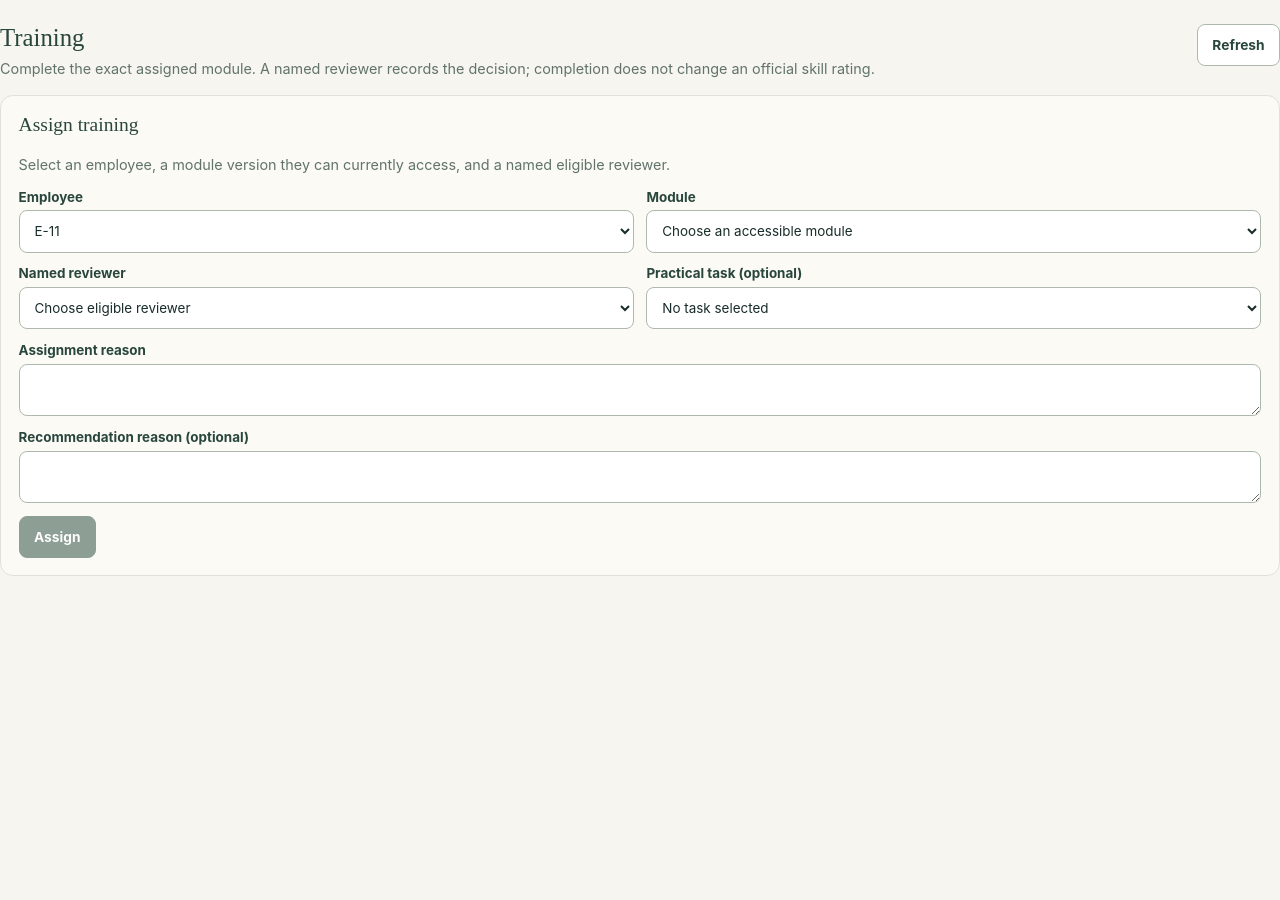
it: TrainingWorkspace › assigns an exact published module to a named reviewer and reloads its persisted assignment
Expected: the heading "Assign training" is shown, [19,114,138,135]
Select "Safe studio setup · Version 4" in the dropdown labelled "Module" at (954, 231), box [646,210,1261,253]
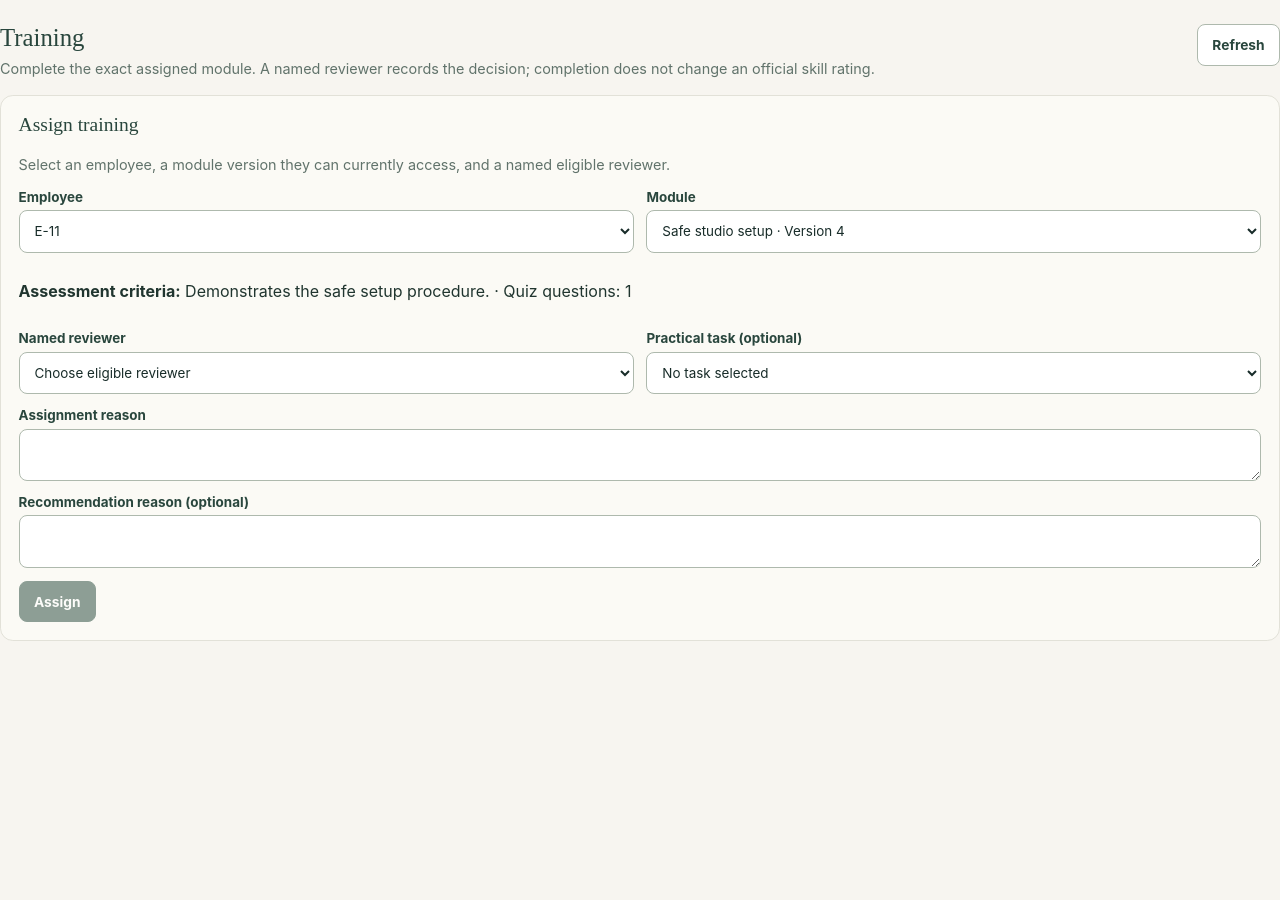
Select "Team reviewer" in the dropdown labelled "Named reviewer" at (326, 373), box [19,352,634,394]
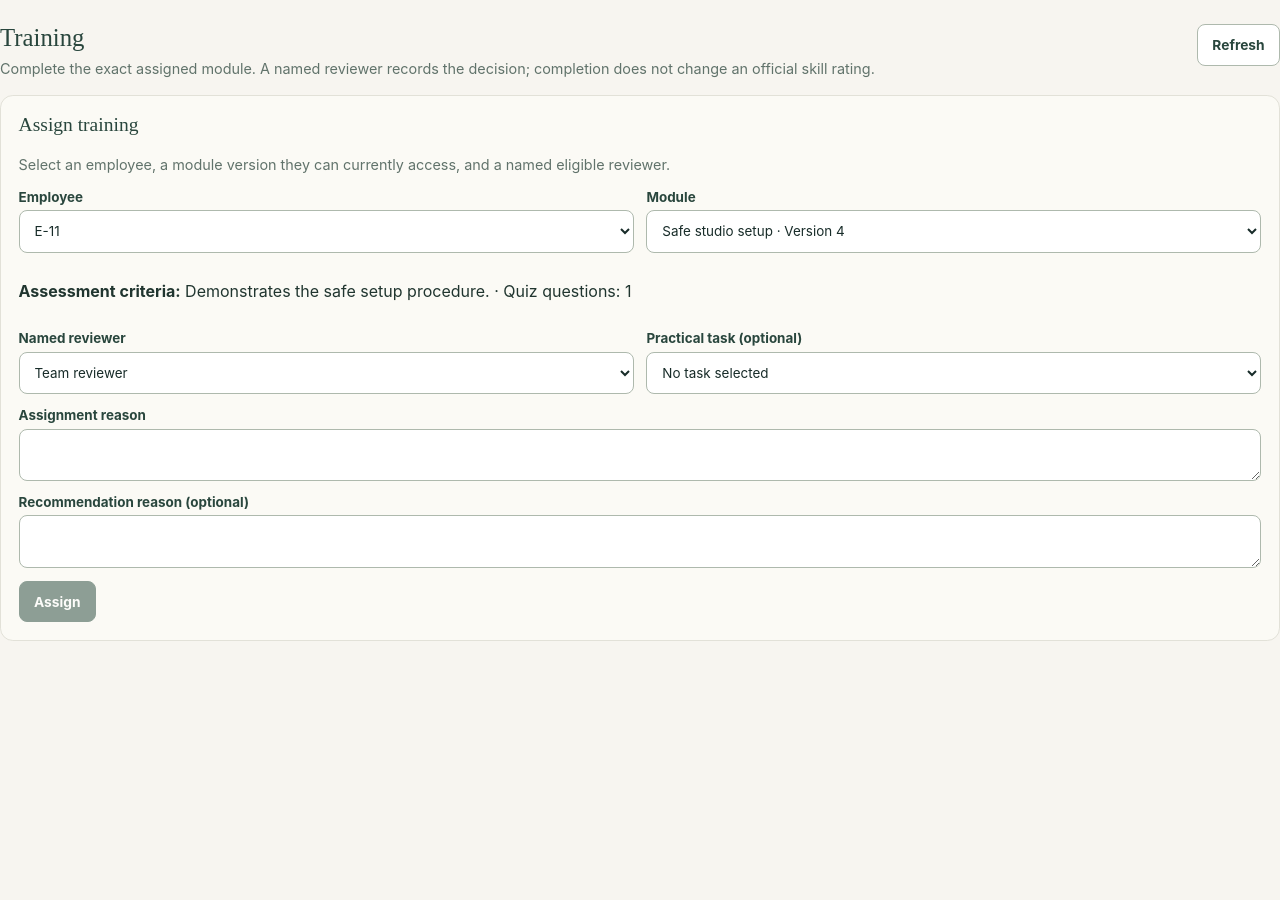
Type "Assign onboarding training" into the text box labelled "Assignment reason" at (640, 455), box [19,428,1261,481]
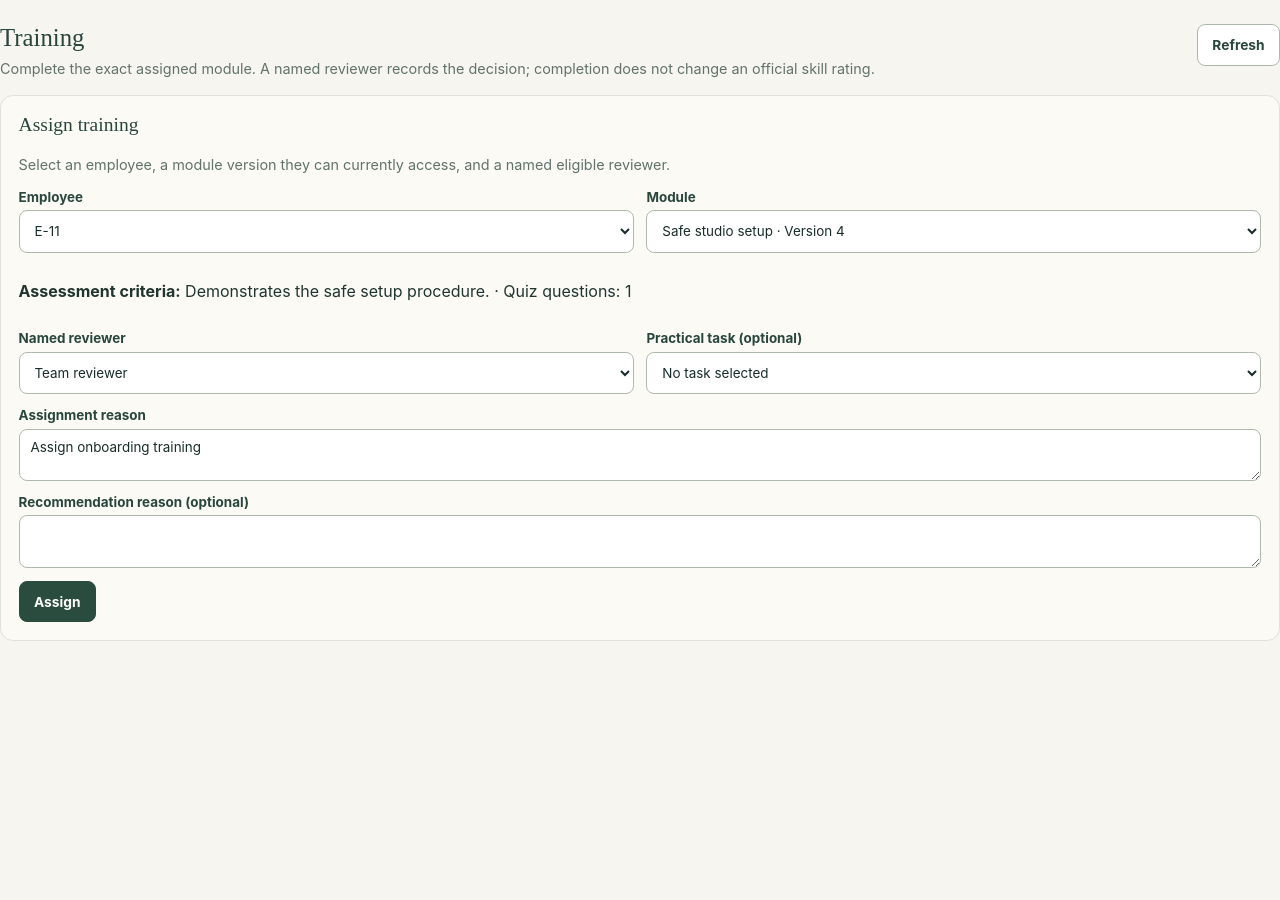
Click the button "Assign" at (57, 602), box [19,581,96,622]
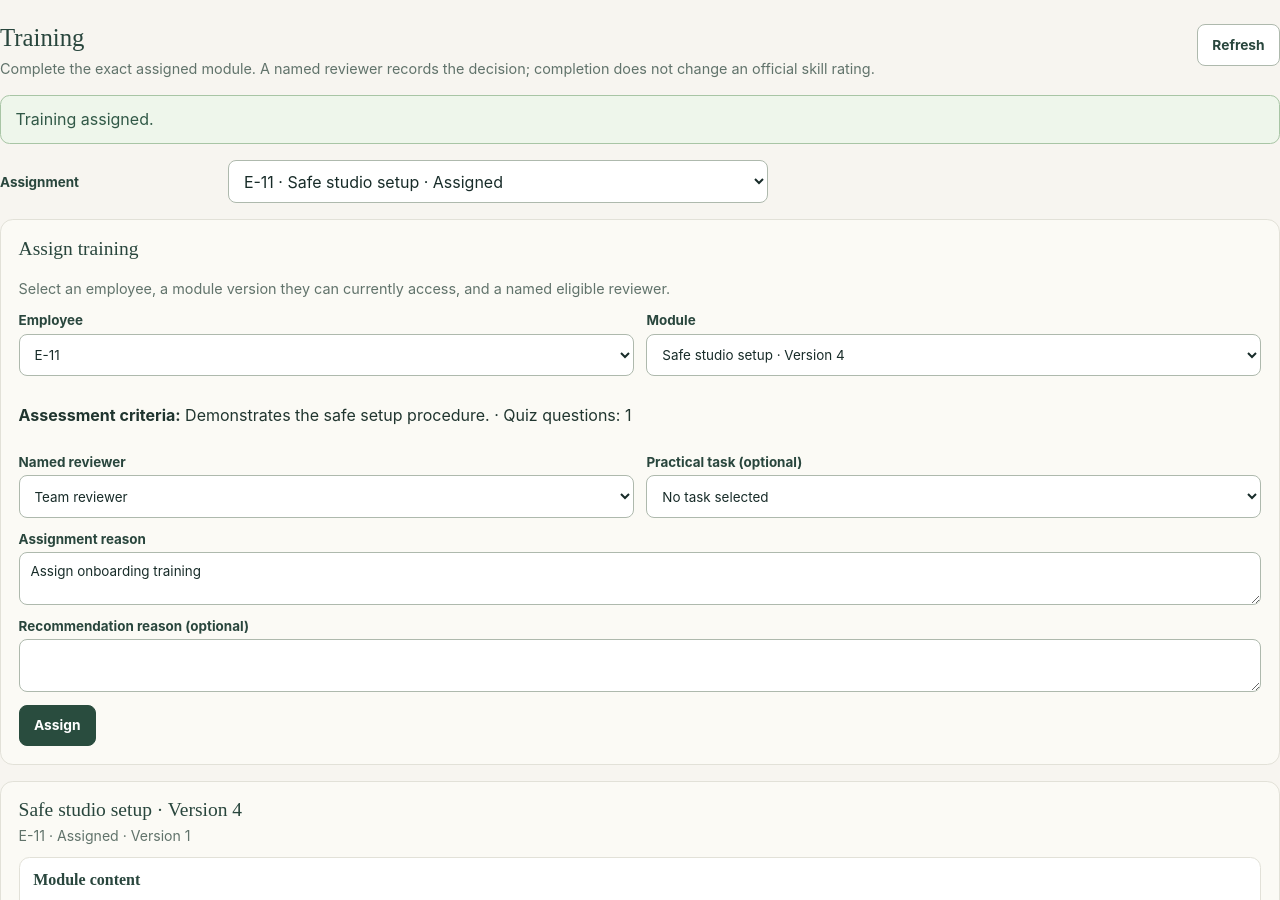
Expected: the heading "Safe studio setup · Version 4" is shown, [19,799,242,821]
